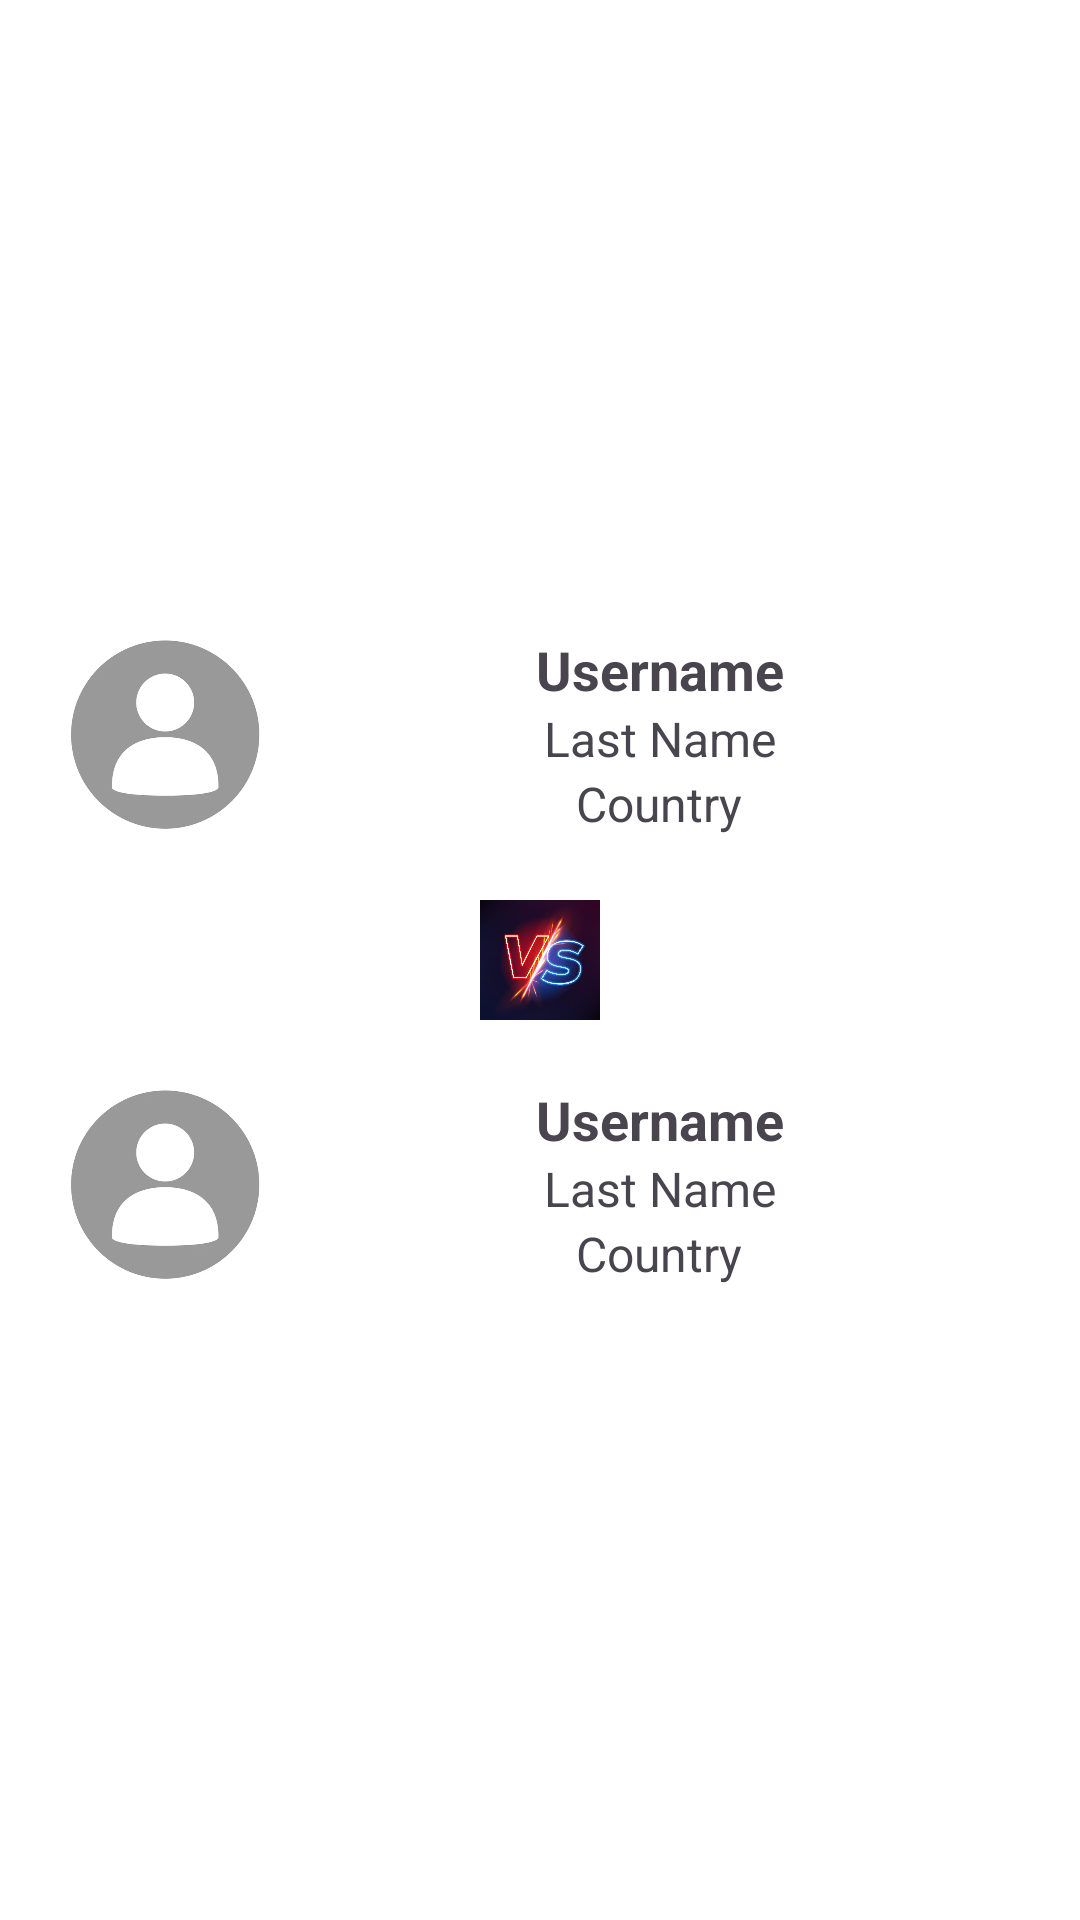

Icon bounding boxes for this 1080x1920 phone screenshot, format (x1, y1, x2, y2):
Profile Picture: (71, 640, 259, 829), (71, 1090, 259, 1279)
VS Image: (480, 900, 600, 1020)
